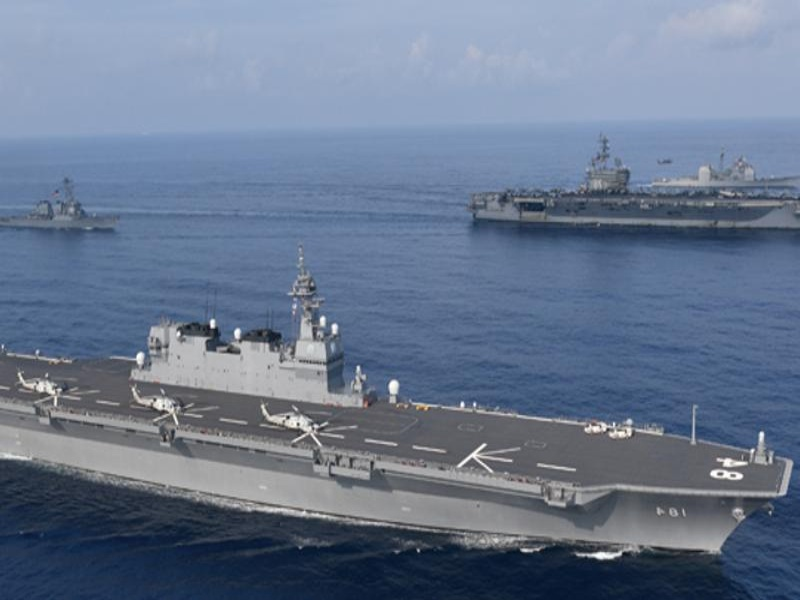carrier: (11, 295, 785, 553), (456, 146, 798, 232)
cruise: (10, 179, 118, 233)
